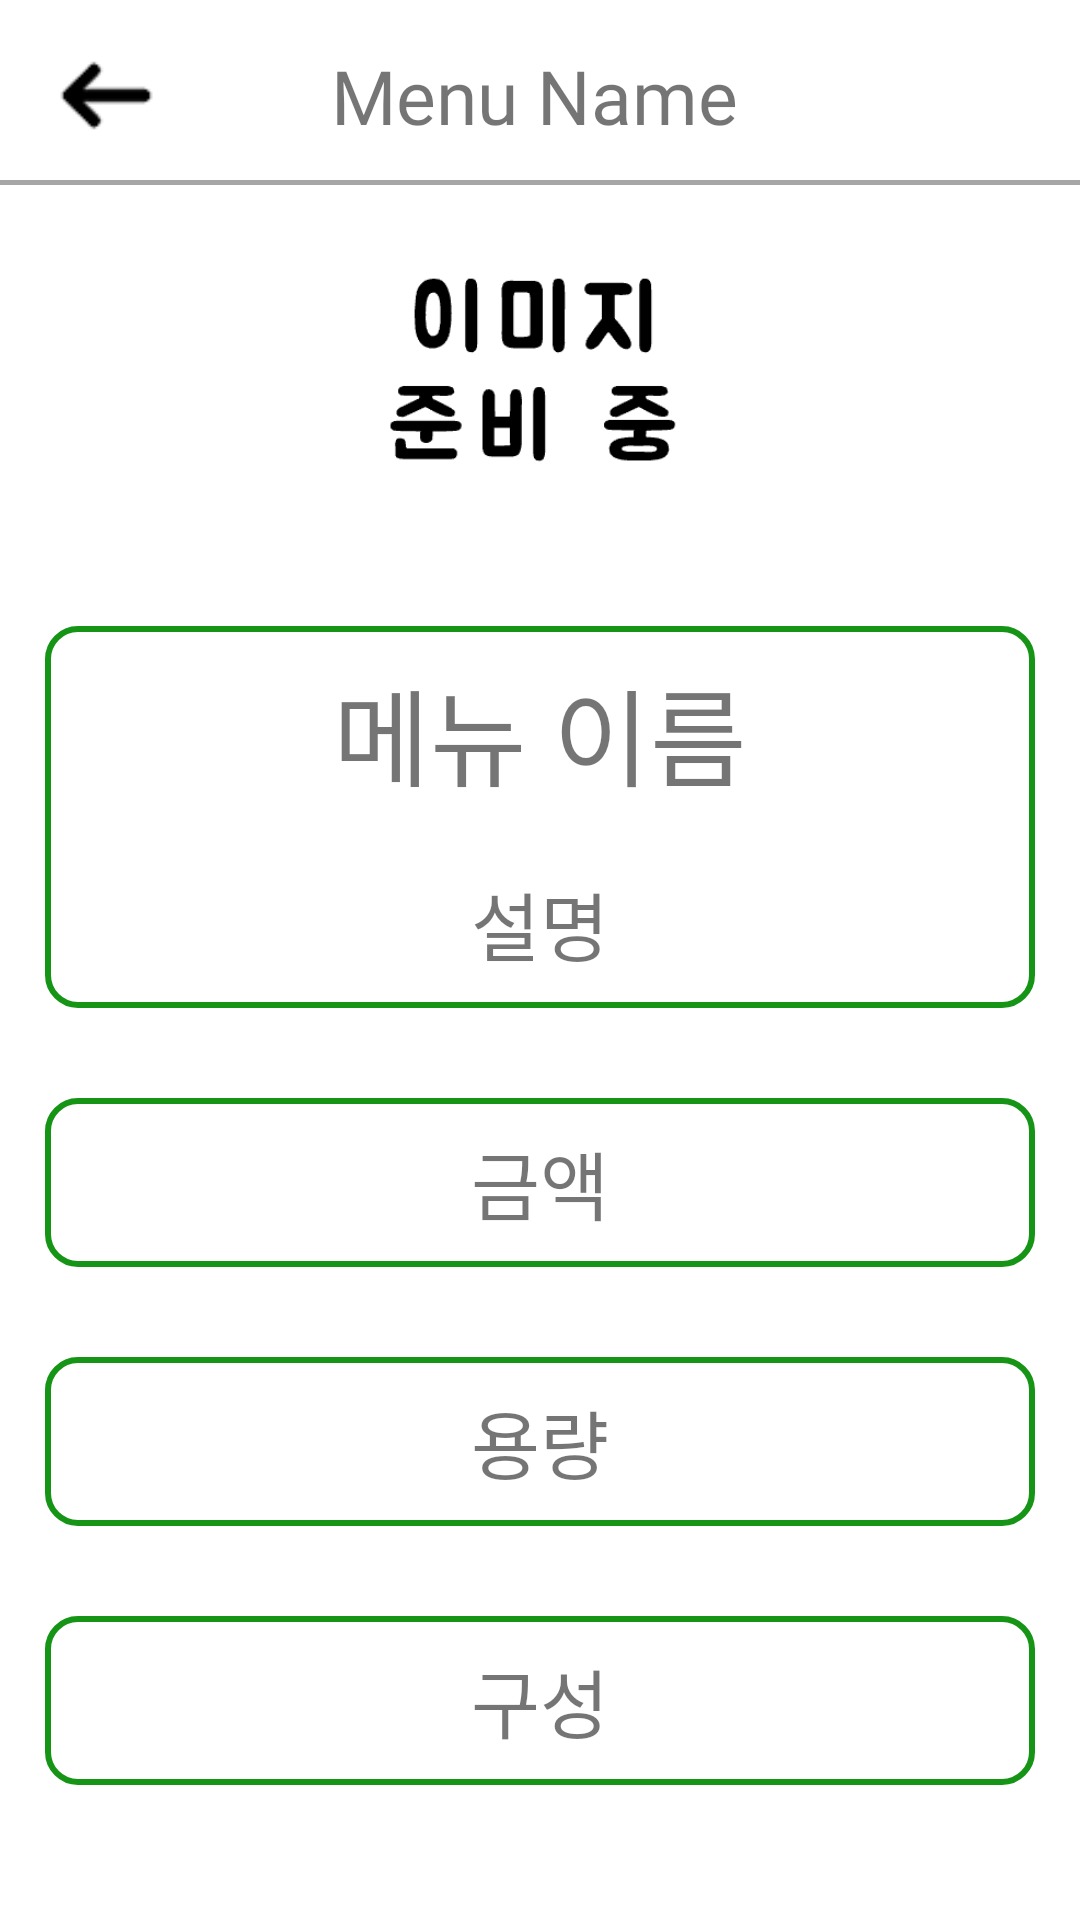

Icons on this 1080*1920 Android screen, each with the point to tap as point (x, y):
back: point (106, 95)
